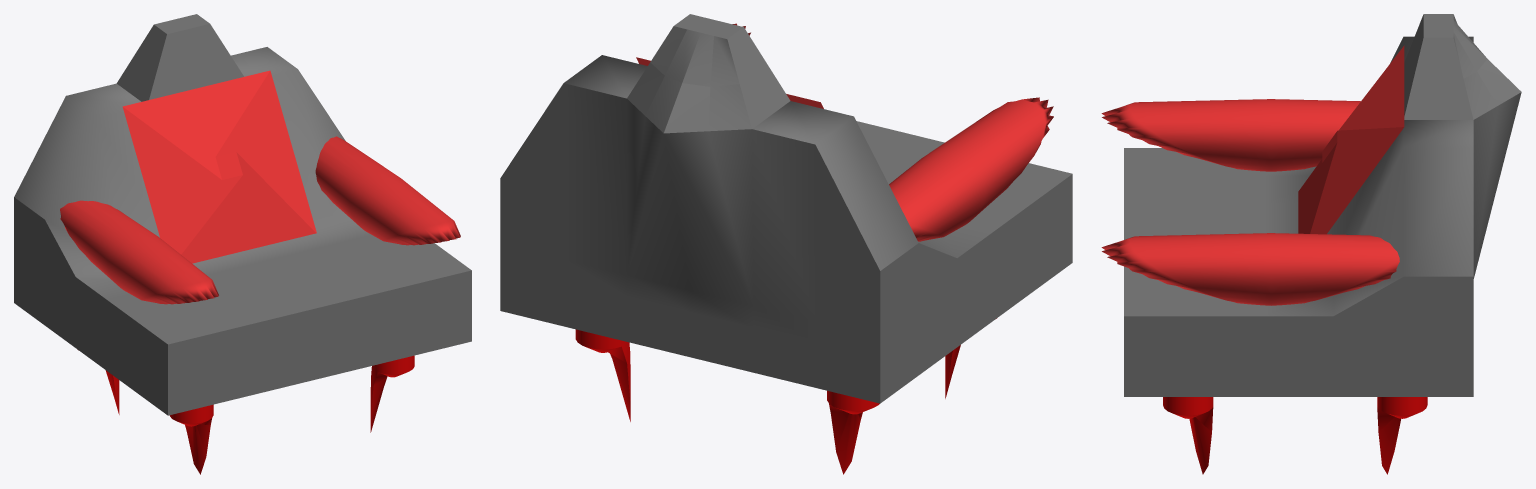
Rendered from DeluxeRecliner.fbx.
3 renders of one model, left to right at view 1: azimuth 30°, elevation 25°; view 2: azimuth 150°, elevation 25°; view 3: azimuth 270°, elevation 25°, orthographic. The views are drawn at different scales.
Visible parts, largest first — view 1: polySurface3; view 2: polySurface3; view 3: polySurface3.
Part boxes in pixels (x1,y1,x2,y2): polySurface3: [14, 14, 471, 474]; polySurface3: [500, 14, 1072, 474]; polySurface3: [1101, 14, 1521, 474].
Bounding box in the file's own units: 2.85 × 3.18 × 3.01.
